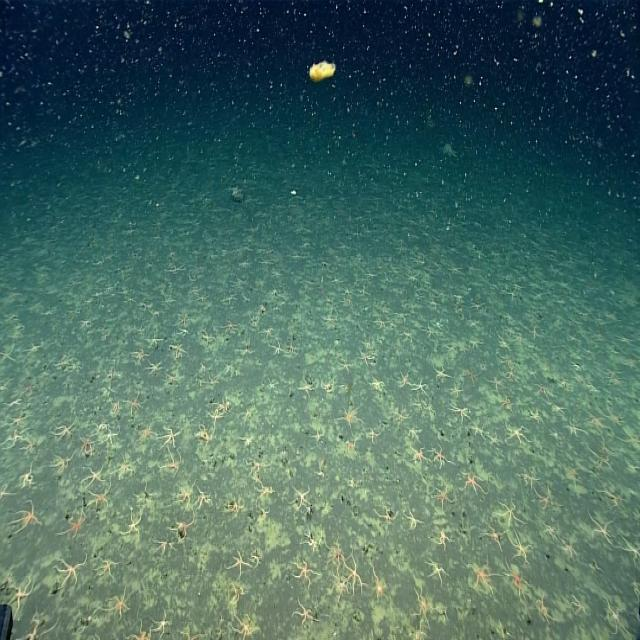brittle-stars: (1, 576, 34, 621), (54, 553, 89, 595), (488, 496, 526, 532), (585, 511, 618, 552), (457, 464, 490, 504), (602, 596, 630, 640), (600, 402, 628, 442), (564, 580, 587, 628), (504, 419, 532, 458), (586, 448, 618, 482), (19, 495, 43, 540), (599, 479, 628, 514), (65, 504, 88, 548), (538, 486, 566, 522), (109, 454, 142, 484), (585, 408, 611, 446), (556, 534, 583, 570), (54, 442, 78, 482), (87, 486, 113, 522), (228, 608, 257, 640), (499, 563, 524, 600), (290, 558, 318, 591), (174, 508, 196, 549), (129, 421, 158, 450), (99, 549, 121, 587), (81, 464, 107, 496), (428, 444, 454, 476), (471, 554, 491, 594), (412, 587, 431, 629), (123, 502, 145, 538), (293, 479, 317, 512), (533, 588, 551, 632), (206, 394, 234, 422), (430, 481, 453, 515), (290, 598, 316, 628), (20, 614, 49, 640), (3, 424, 28, 454), (194, 418, 216, 452), (171, 478, 197, 506), (250, 496, 270, 532), (562, 462, 583, 496), (328, 576, 350, 608), (1, 390, 26, 418), (111, 589, 132, 621), (619, 534, 640, 566), (99, 417, 118, 452), (371, 567, 390, 602), (380, 499, 400, 532), (510, 529, 532, 559), (519, 469, 541, 499), (483, 525, 508, 551), (327, 536, 349, 565), (226, 578, 247, 608), (297, 368, 315, 403), (228, 548, 253, 573), (404, 501, 422, 534), (220, 491, 241, 519), (155, 532, 175, 561), (127, 387, 144, 420), (558, 415, 581, 439), (167, 338, 186, 367), (270, 332, 288, 362), (542, 517, 561, 545), (162, 452, 182, 478), (497, 392, 516, 419), (55, 419, 77, 442), (302, 526, 319, 555), (526, 404, 548, 426), (242, 462, 265, 483), (532, 381, 553, 404), (428, 562, 448, 586), (486, 428, 502, 458), (625, 423, 640, 455), (0, 338, 14, 372), (368, 372, 385, 400), (352, 553, 362, 600), (20, 462, 38, 488), (319, 372, 337, 398), (156, 608, 171, 639), (408, 446, 430, 467), (160, 424, 183, 444), (450, 401, 473, 421), (81, 436, 95, 468), (433, 358, 449, 386), (221, 318, 241, 340), (364, 421, 383, 444), (446, 381, 464, 405), (198, 483, 215, 508), (462, 365, 482, 386), (318, 309, 338, 330), (356, 348, 379, 366), (525, 322, 542, 346), (468, 331, 483, 358), (144, 358, 164, 378), (127, 345, 146, 366), (469, 420, 488, 441), (310, 430, 328, 452), (354, 280, 372, 302), (397, 323, 414, 346), (391, 404, 408, 427), (413, 379, 433, 398), (486, 374, 505, 394), (176, 314, 190, 341), (148, 330, 166, 351), (126, 627, 154, 640), (166, 365, 179, 393), (341, 406, 362, 423), (398, 371, 414, 393), (504, 365, 520, 387), (222, 293, 239, 312), (167, 260, 186, 277), (344, 434, 360, 454), (422, 322, 436, 344), (338, 357, 354, 376), (498, 334, 516, 350), (238, 338, 252, 358), (138, 300, 158, 314), (405, 426, 423, 441), (373, 316, 388, 334), (549, 400, 569, 413), (193, 292, 209, 308), (108, 400, 122, 418), (105, 379, 115, 404), (200, 330, 213, 349), (242, 432, 253, 454), (427, 296, 441, 312), (254, 488, 276, 498), (241, 406, 253, 424), (266, 378, 279, 394), (137, 324, 147, 340), (252, 552, 262, 566)
